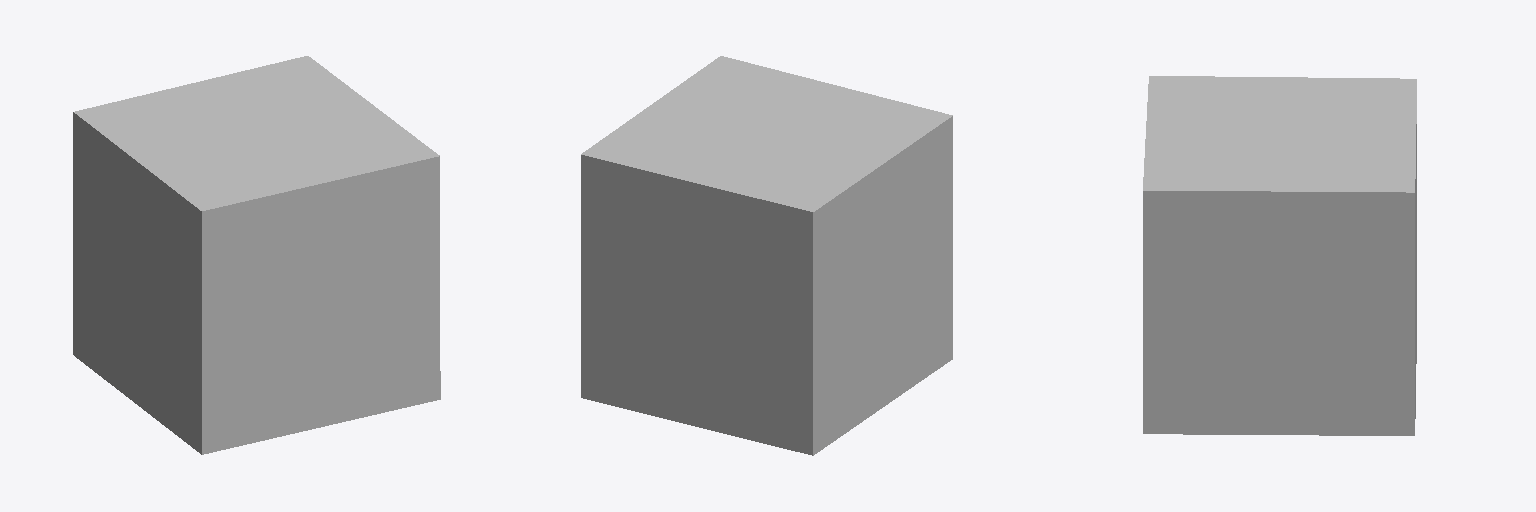
The model's file is cornell-box copy.obj.
3 views of the same model, side by side, from view 1: azimuth 30°, elevation 25°; view 2: azimuth 150°, elevation 25°; view 3: azimuth 270°, elevation 25° (orthographic).
Parts seen in each view (by area): view 1: texture-box; view 2: texture-box; view 3: texture-box.
Part boxes in pixels (bbox=[...]): texture-box: bbox=[73, 56, 440, 454]; texture-box: bbox=[581, 56, 952, 455]; texture-box: bbox=[1143, 76, 1416, 435].
Bounding box in the file's own units: 6.45 × 6.27 × 6.4.